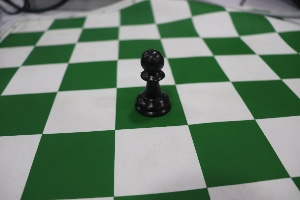black_pawn: (128, 40, 174, 123)
